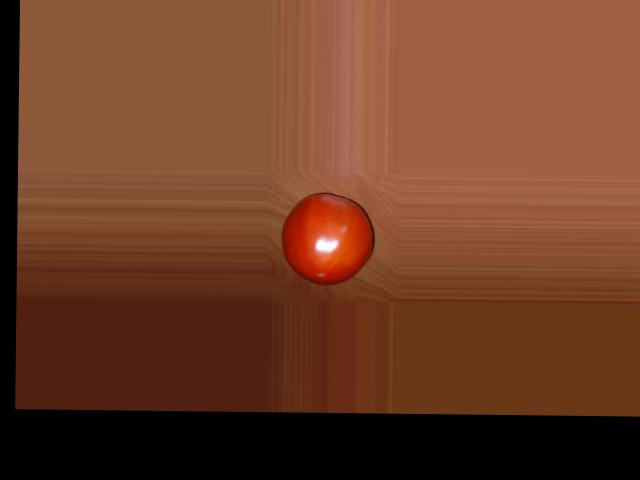tomato: (280, 192, 374, 285)
